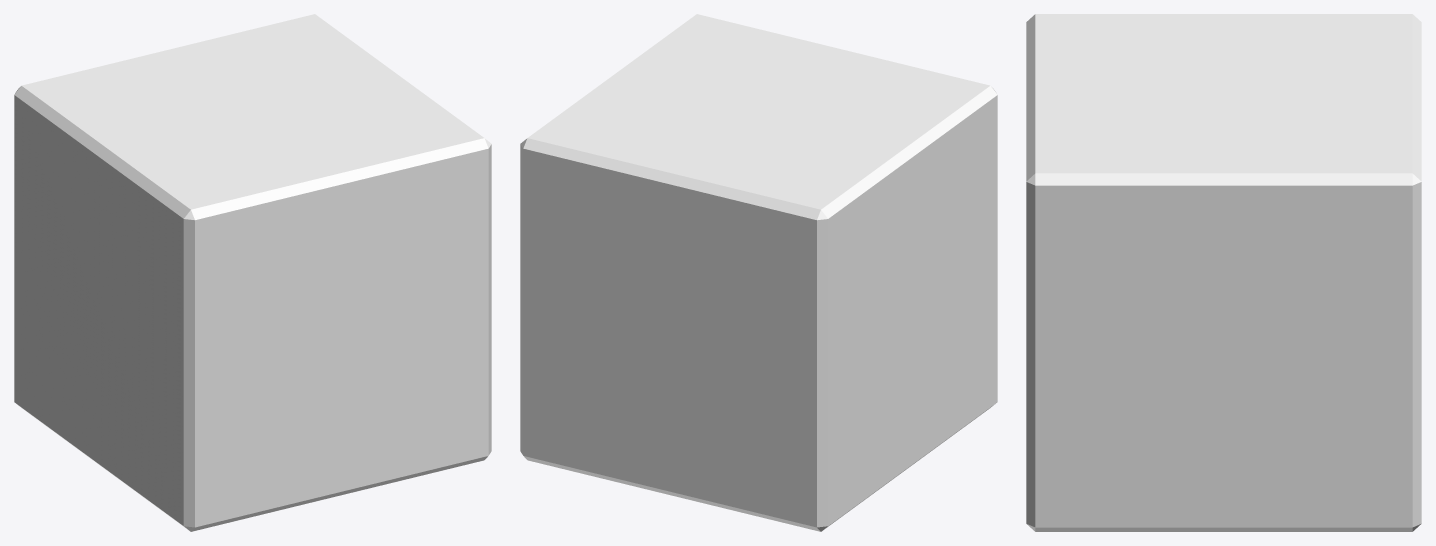
The model's file is SquareMap_Base.fbx.
The picture shows the model from 3 angles, left to right: view 1: azimuth 30°, elevation 25°; view 2: azimuth 150°, elevation 25°; view 3: azimuth 270°, elevation 25°; orthographic projection. The views are drawn at different scales.
Visible parts, largest first — view 1: Face_2, Face_1, Face_5, Face_6, Face_3; view 2: Face_4, Face_1, Face_5, Face_6, Face_3; view 3: Face_3, Face_5, Face_4, Face_2, Face_6.
Boxes of the visible parts, x1,y1,x2,y2 form: Face_2: [189, 143, 490, 529]; Face_1: [14, 90, 189, 528]; Face_5: [18, 14, 488, 215]; Face_6: [21, 407, 486, 531]; Face_3: [488, 141, 491, 452]; Face_4: [521, 143, 822, 529]; Face_1: [822, 90, 997, 528]; Face_5: [523, 14, 993, 215]; Face_6: [525, 407, 990, 531]; Face_3: [520, 141, 523, 452]; Face_3: [1030, 179, 1417, 529]; Face_5: [1030, 14, 1417, 179]; Face_4: [1415, 18, 1421, 527]; Face_2: [1026, 18, 1032, 527]; Face_6: [1031, 527, 1416, 531].
Bounding box in the file's own units: 2 × 2 × 2.
